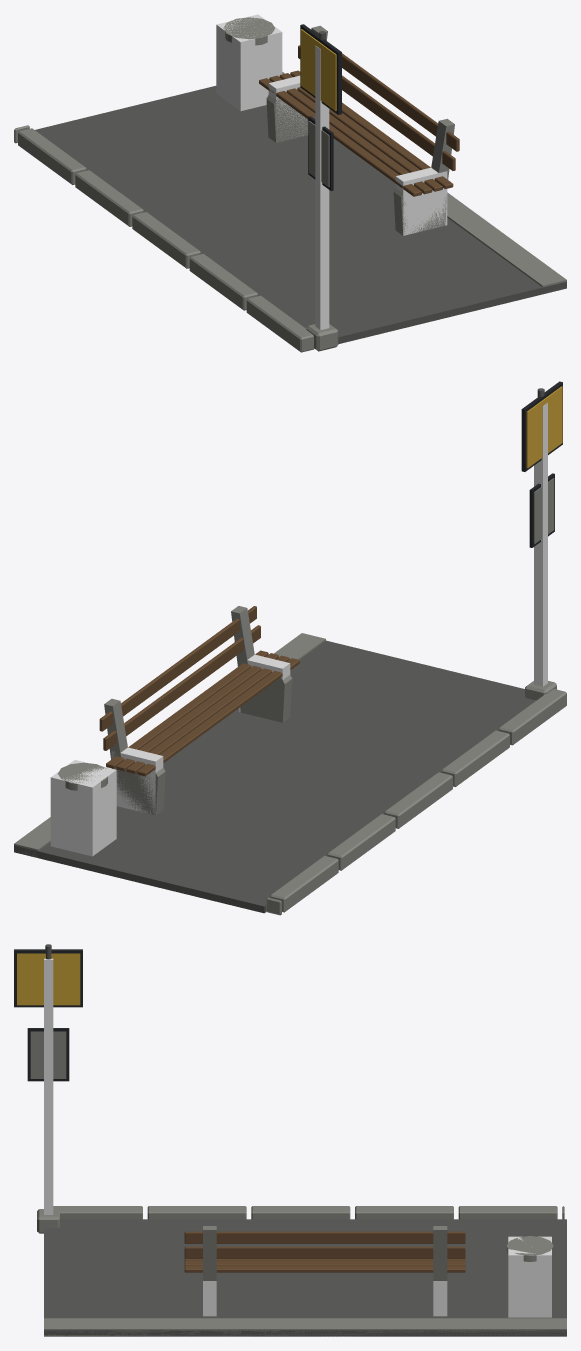
File: stop-base.glb
3 renders of one model, top to bottom at view 1: azimuth 30°, elevation 25°; view 2: azimuth 150°, elevation 25°; view 3: azimuth 270°, elevation 25°, orthographic. The views are drawn at different scales.
Visible parts, largest first — view 1: 00_#5a5a58, 01_#85857f, 02_#6a5038_r320, solid.003, solid.002, solid.001, 04_#c9a13a_noshadow_r110, 03_#2a2c30_noshadow_r110, solid; view 2: 00_#5a5a58, 01_#85857f, 02_#6a5038_r320, solid.003, solid.002, 04_#c9a13a_noshadow_r110, solid, 03_#2a2c30_noshadow_r110; view 3: 00_#5a5a58, 01_#85857f, 02_#6a5038_r320, 04_#c9a13a_noshadow_r110, solid.003, solid.002, 03_#2a2c30_noshadow_r110, solid, solid.001.
Part boxes in pixels (x1,y1,x2,y2): 00_#5a5a58: (35,31,566,344); 01_#85857f: (14,17,566,352); 02_#6a5038_r320: (259,45,459,196); solid.003: (216,14,282,111); solid.002: (315,45,329,329); solid.001: (395,167,447,235); 04_#c9a13a_noshadow_r110: (300,29,336,111); 03_#2a2c30_noshadow_r110: (300,24,341,190); solid: (268,75,308,138); 00_#5a5a58: (14,388,544,913); 01_#85857f: (14,478,566,915); 02_#6a5038_r320: (99,606,299,776); solid.003: (50,760,116,856); solid.002: (534,403,547,686); 04_#c9a13a_noshadow_r110: (526,386,562,468); solid: (111,747,163,815); 03_#2a2c30_noshadow_r110: (521,381,562,547); 00_#5a5a58: (44,944,566,1336); 01_#85857f: (30,1031,566,1336); 02_#6a5038_r320: (184,1231,465,1272); 04_#c9a13a_noshadow_r110: (17,953,80,1005); solid.003: (508,1236,551,1317); solid.002: (44,958,53,1214); 03_#2a2c30_noshadow_r110: (14,949,82,1081); solid: (433,1281,447,1316); solid.001: (203,1281,216,1316).
Bounding box in the file's own units: 2.42 × 2.72 × 4.8.
